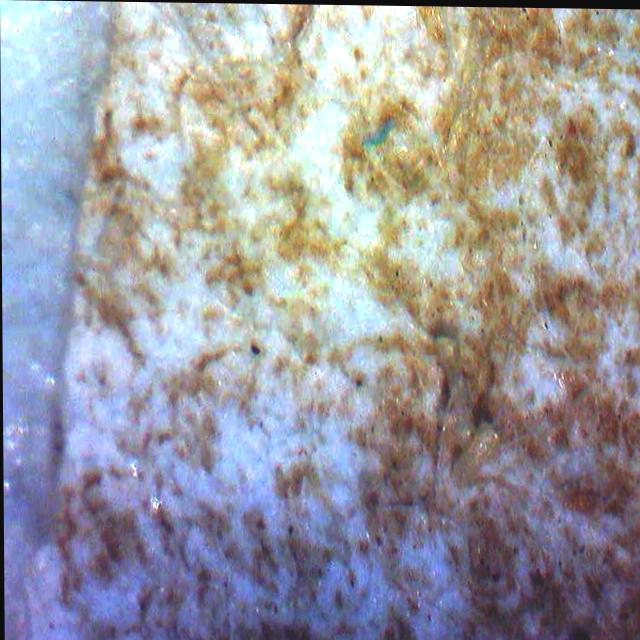microplastic: (362, 115, 399, 154)
